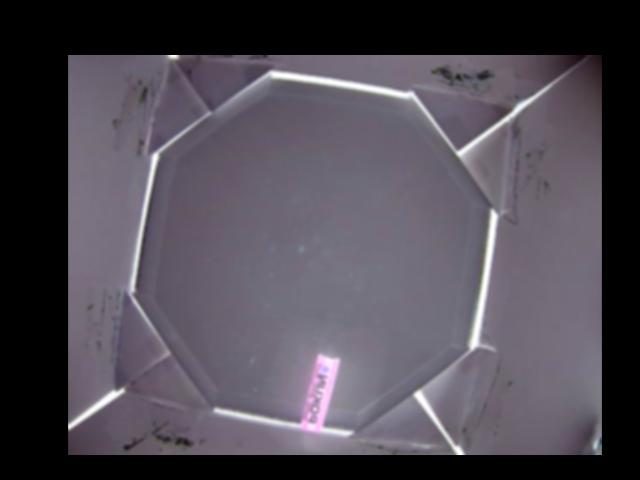Battery: (300, 352, 339, 433)
